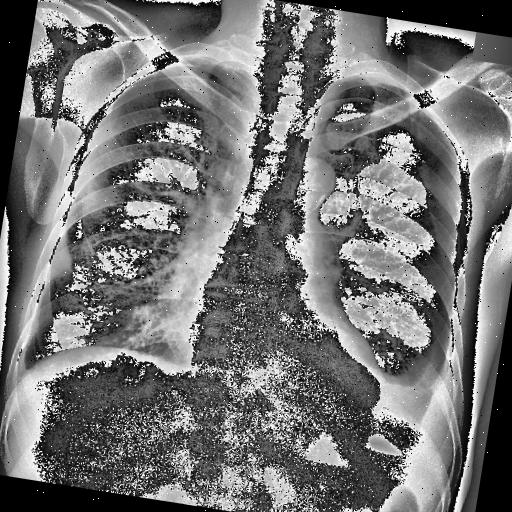10- Pleural effusion: (352, 318, 465, 472), (356, 314, 467, 459), (367, 314, 466, 436), (11, 348, 34, 386), (9, 358, 38, 380)
11- Pleural thickening: (356, 314, 467, 459), (340, 64, 412, 92), (335, 67, 408, 93), (11, 348, 34, 386), (9, 358, 38, 380)
5- ILD: (93, 246, 204, 362)
6- Infiltration: (93, 246, 204, 362)
7- Lung Opacity: (378, 338, 446, 424)
